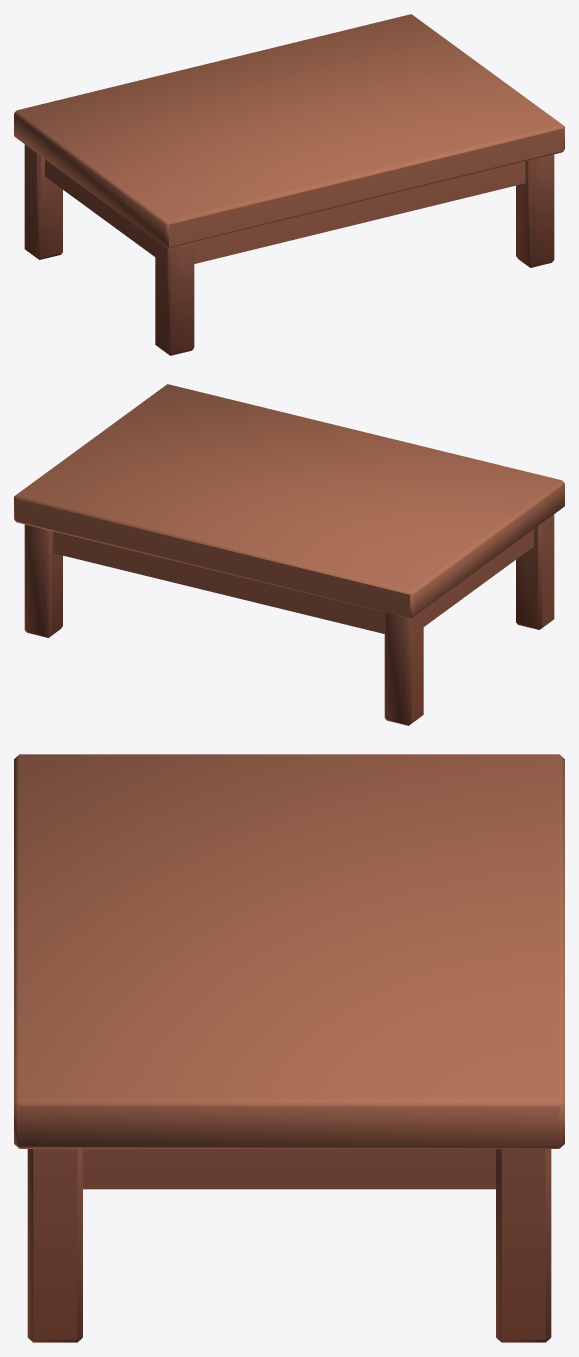
File: kkf.table_medium_long.glb
The picture shows the model from 3 angles, top to bottom: view 1: azimuth 30°, elevation 25°; view 2: azimuth 150°, elevation 25°; view 3: azimuth 270°, elevation 25°; orthographic projection. The views are drawn at different scales.
Parts seen in each view (by area): view 1: table_medium_long; view 2: table_medium_long; view 3: table_medium_long.
Part boxes in pixels (<box>): table_medium_long: <box>14,14,564,355</box>; table_medium_long: <box>14,384,564,725</box>; table_medium_long: <box>14,754,564,1342</box>.
Bounding box in the file's own units: 2.15 × 0.7153 × 1.43.
1 material, 1 textured.
